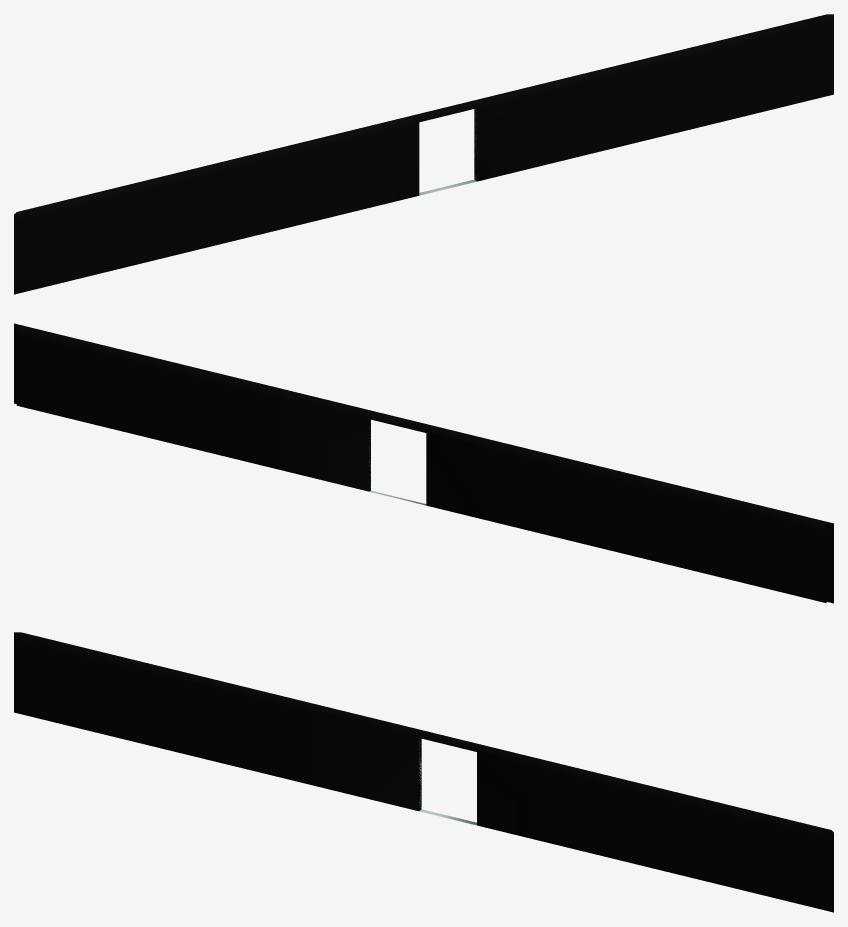
The model's file is ParedeEscura.fbx.
3 renders of one model, top to bottom at view 1: azimuth 30°, elevation 25°; view 2: azimuth 150°, elevation 25°; view 3: azimuth 330°, elevation 25°, orthographic.
Parts seen in each view (by area): view 1: ParedeEscura; view 2: ParedeEscura; view 3: ParedeEscura.
Part boxes in pixels (left/top/right/bottom): ParedeEscura: left=14, top=14, right=833, bottom=294; ParedeEscura: left=14, top=323, right=833, bottom=603; ParedeEscura: left=14, top=632, right=833, bottom=912.
Size of the model in its own units: 4521 by 21.4 by 422.
